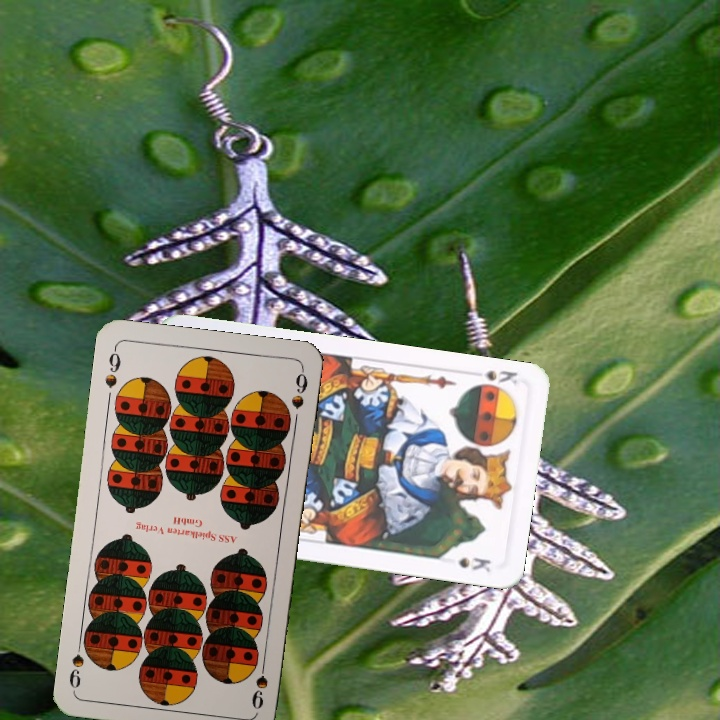S9: (247, 653, 271, 712), (100, 343, 123, 391)
SK: (480, 366, 520, 388)
